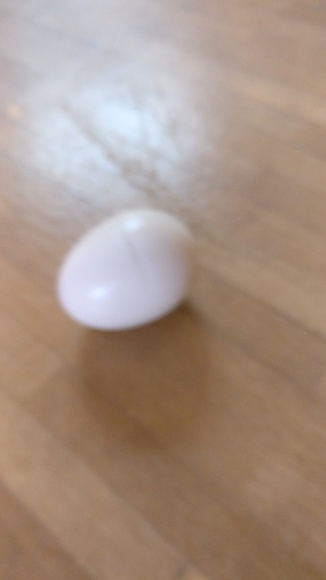egg: (55, 207, 200, 335)
